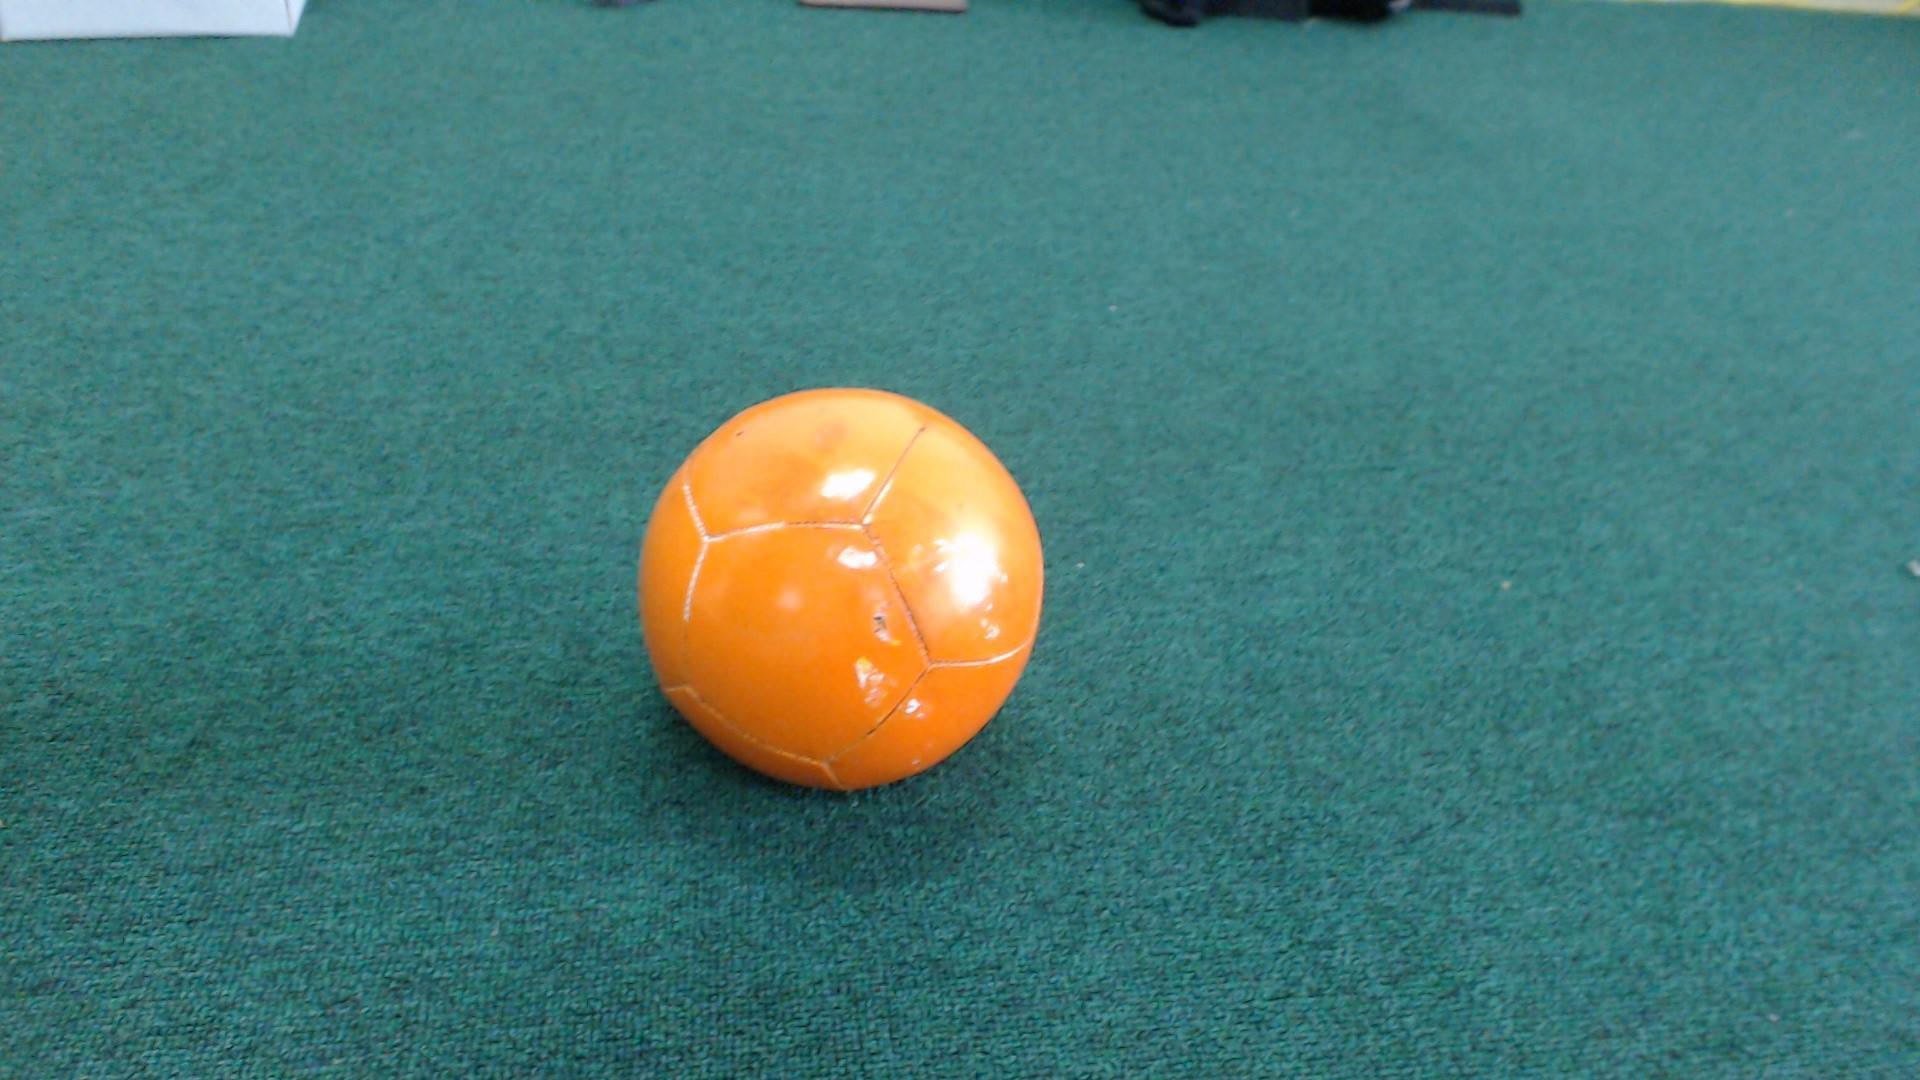bola: (612, 327, 1069, 812)
